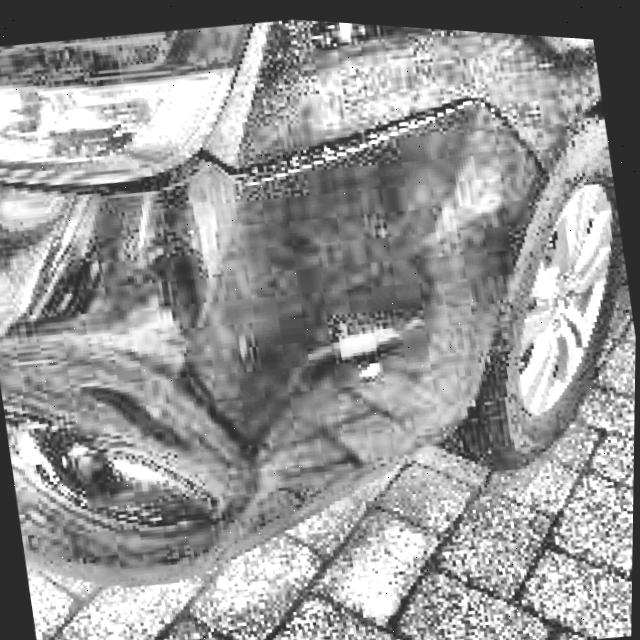bumper_dent: (0, 295, 255, 553)
